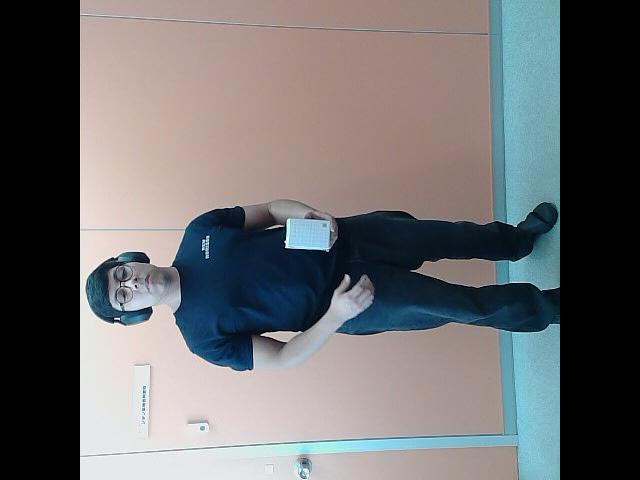Blind_box: (282, 214, 334, 252)
